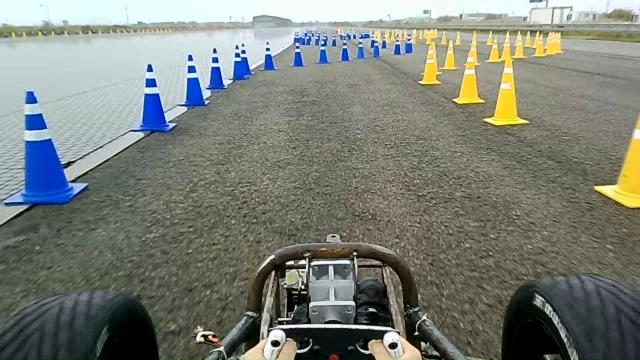blue cone: (3, 89, 88, 206), (130, 63, 177, 132), (178, 54, 210, 107), (205, 47, 227, 90), (228, 44, 248, 81), (261, 39, 279, 73), (239, 42, 254, 75), (289, 39, 306, 67), (316, 36, 332, 64), (338, 38, 351, 62)
yellow cone: (483, 52, 530, 126), (456, 49, 485, 105), (419, 42, 443, 86)
